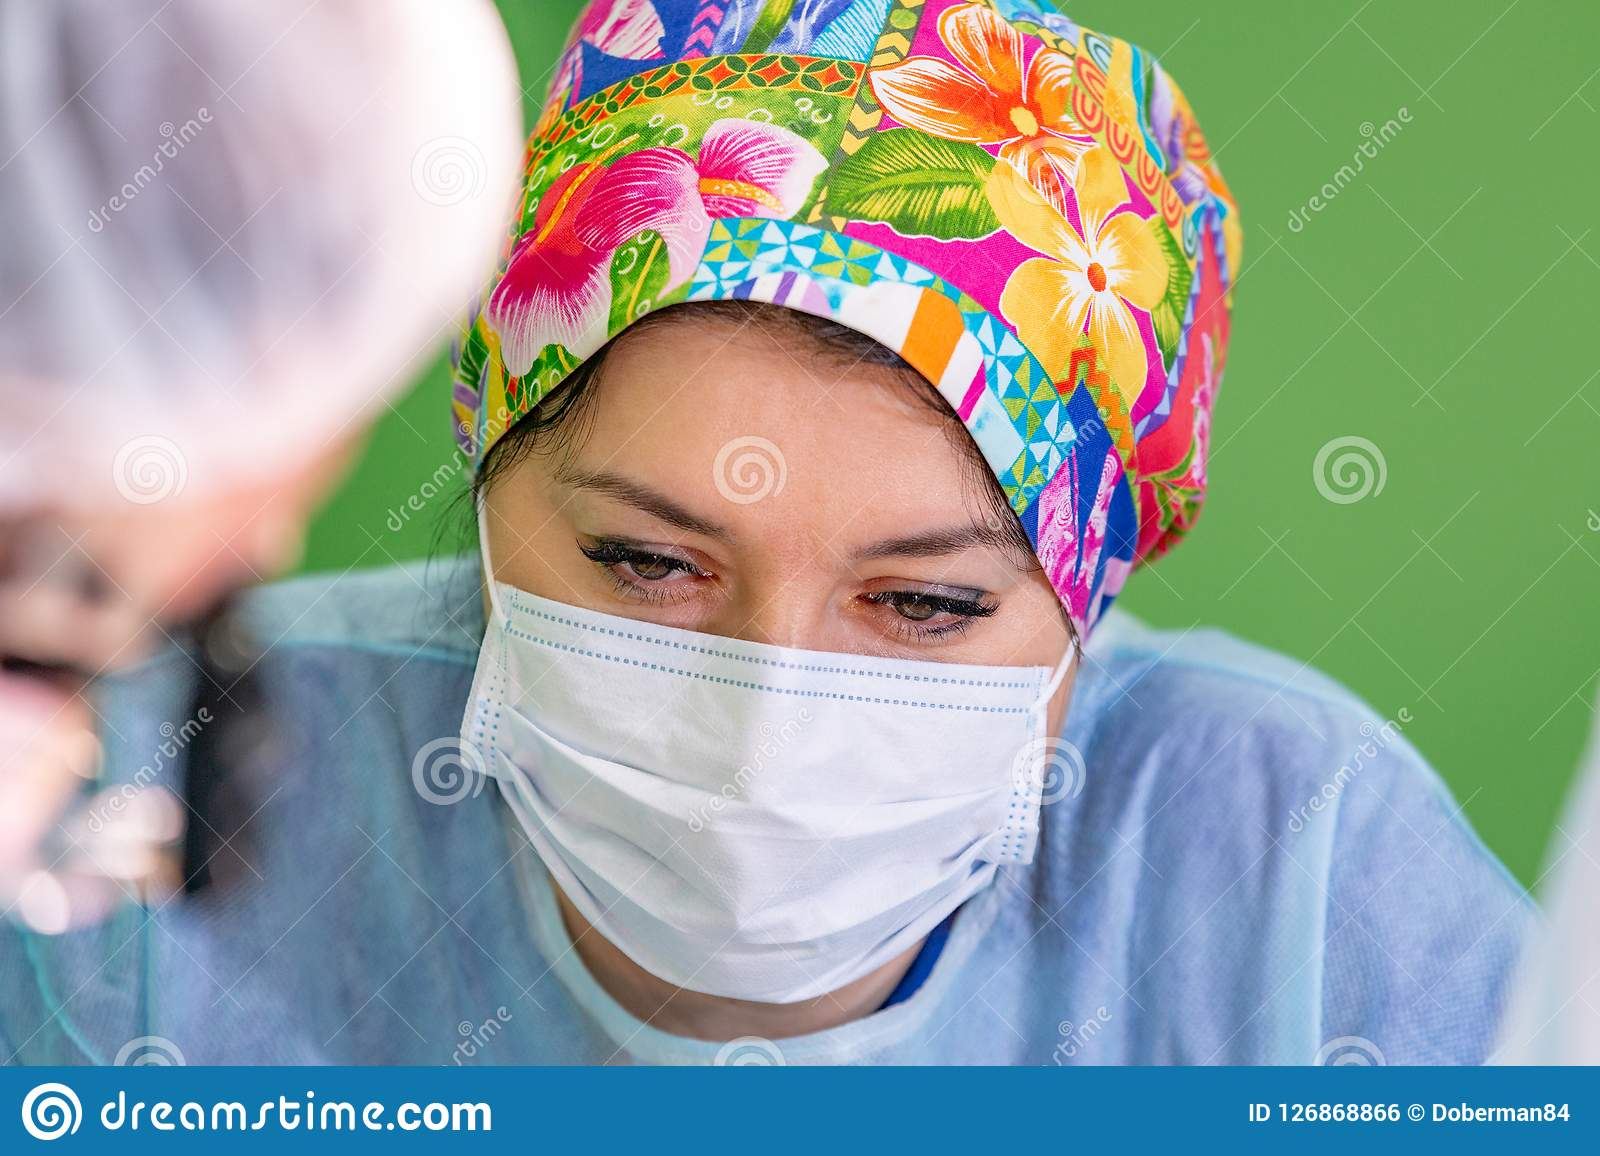mask: (466, 591, 1057, 983)
